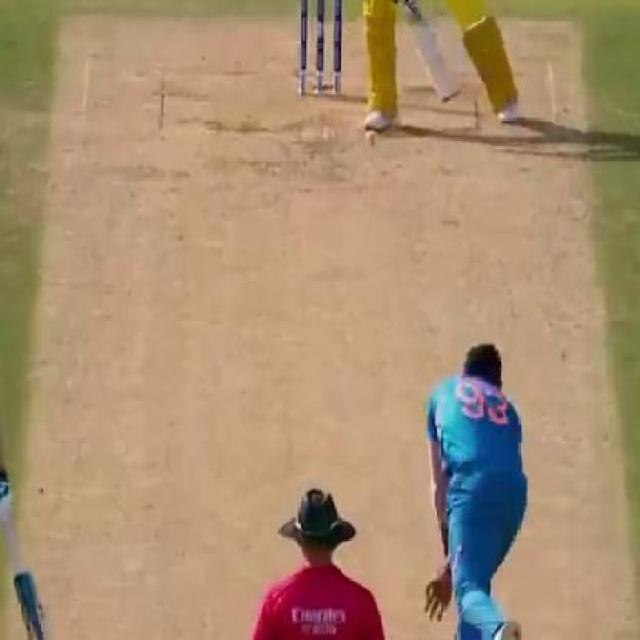Cricket ball: (362, 128, 381, 151)
